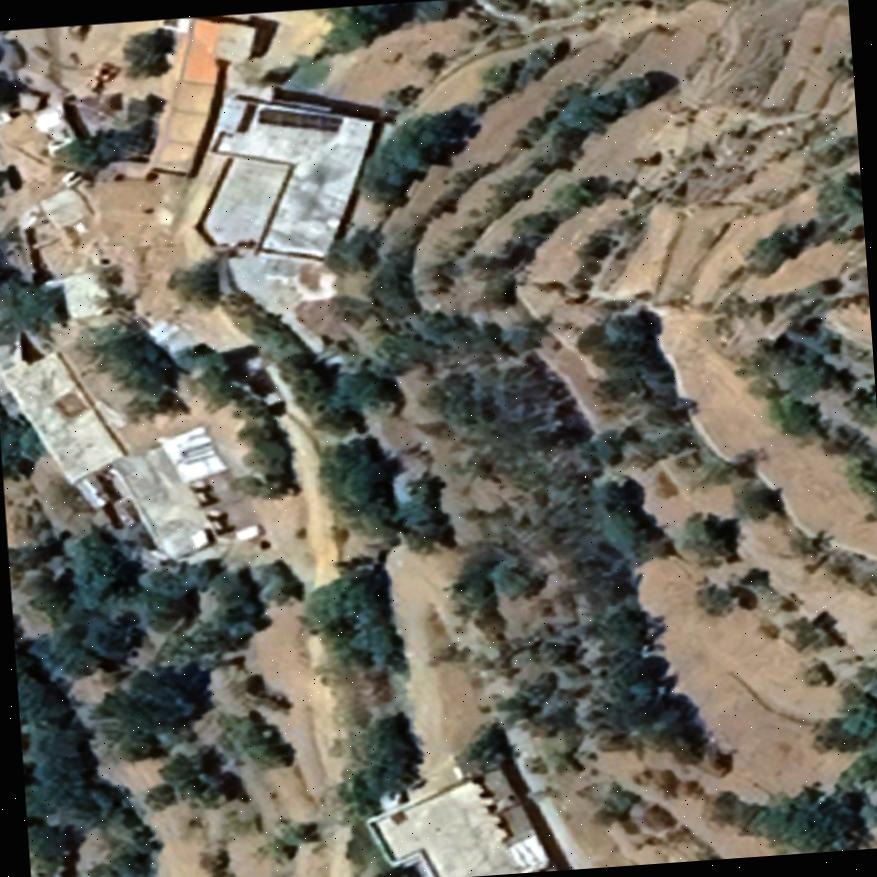Solarpanel: (253, 98, 346, 138)
